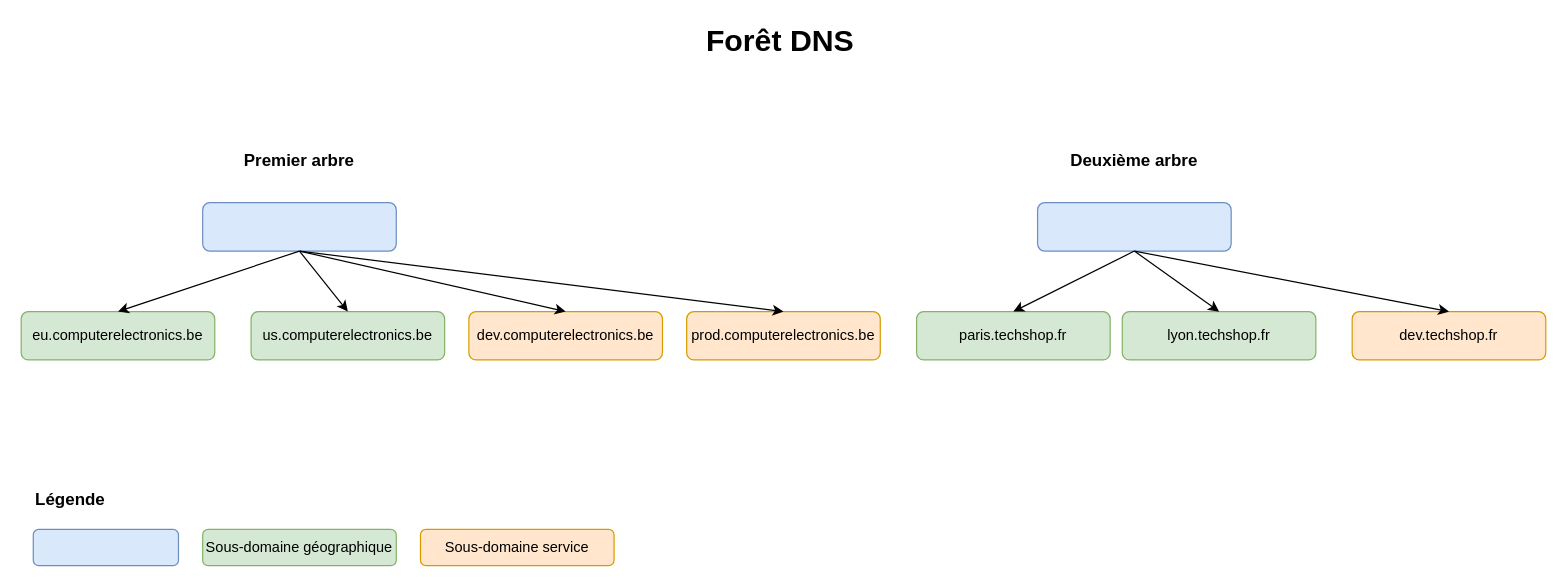
This 1567x587 diagram has some shape labels left out. The centre of each missing label's shape, as x and y in pixels:
computerelectronics.be: (x=298, y=226)
Domaine racine: (x=105, y=547)
techshop.fr: (x=1133, y=226)
